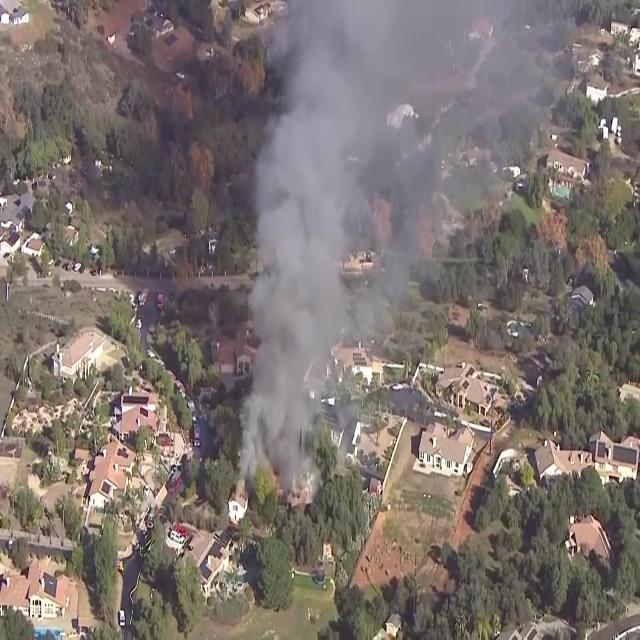Smoke: (237, 0, 546, 492)
